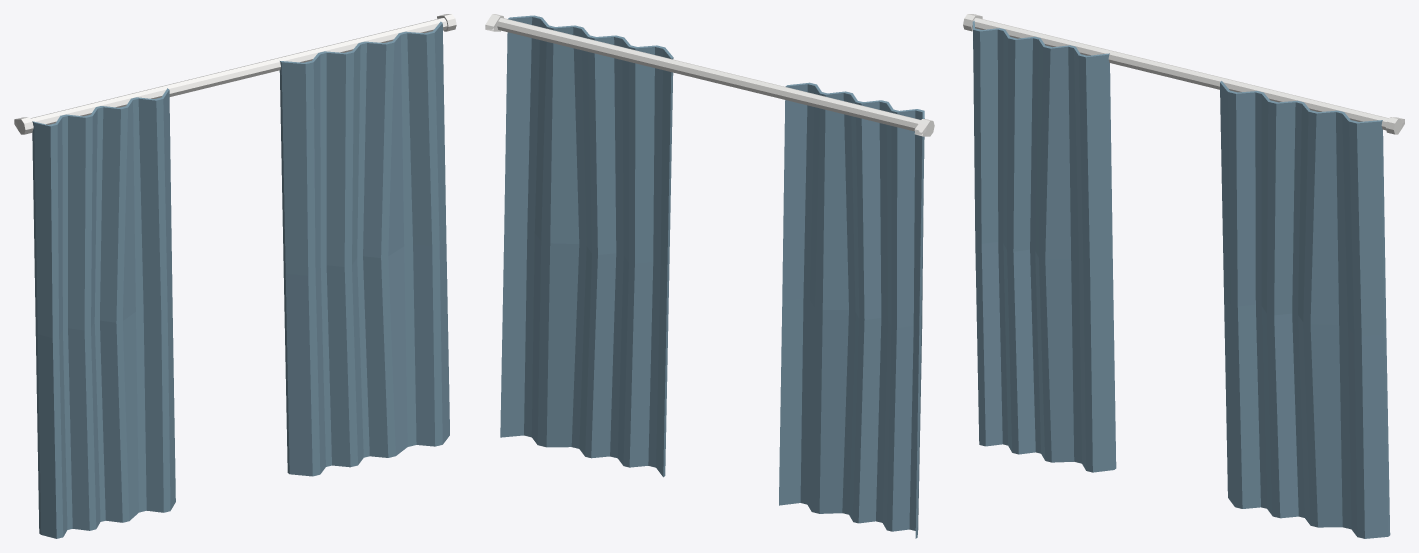
The model's file is Curtains_2.fbx.
3 renders of one model, left to right at view 1: azimuth 30°, elevation 25°; view 2: azimuth 150°, elevation 25°; view 3: azimuth 330°, elevation 25°, orthographic.
Visible parts, largest first — view 1: Curtains_2; view 2: Curtains_2; view 3: Curtains_2.
Part boxes in pixels (bbox=[...]): Curtains_2: bbox=[14, 14, 456, 538]; Curtains_2: bbox=[485, 14, 934, 538]; Curtains_2: bbox=[963, 14, 1404, 538].
Bounding box in the file's own units: 407 × 30.91 × 376.
